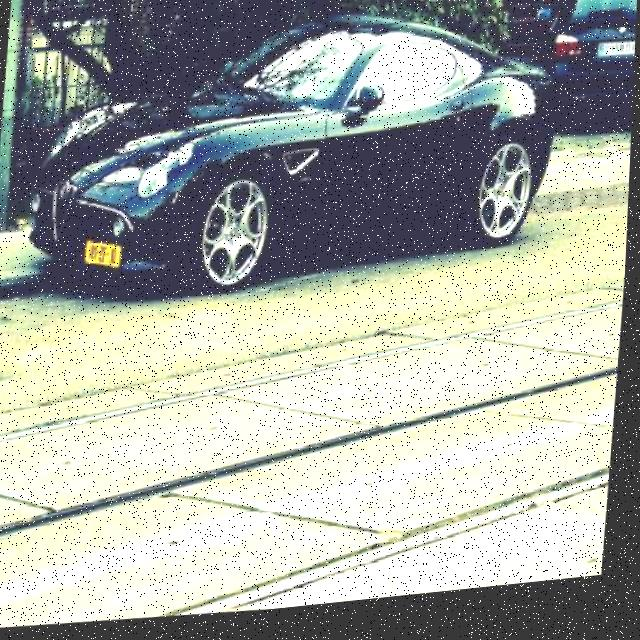license_plate: (86, 240, 124, 273), (599, 54, 636, 71)
